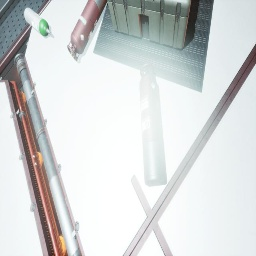0: (24, 8, 51, 36)
NitrogenTank ,: (139, 63, 165, 186), (67, 0, 107, 61)
